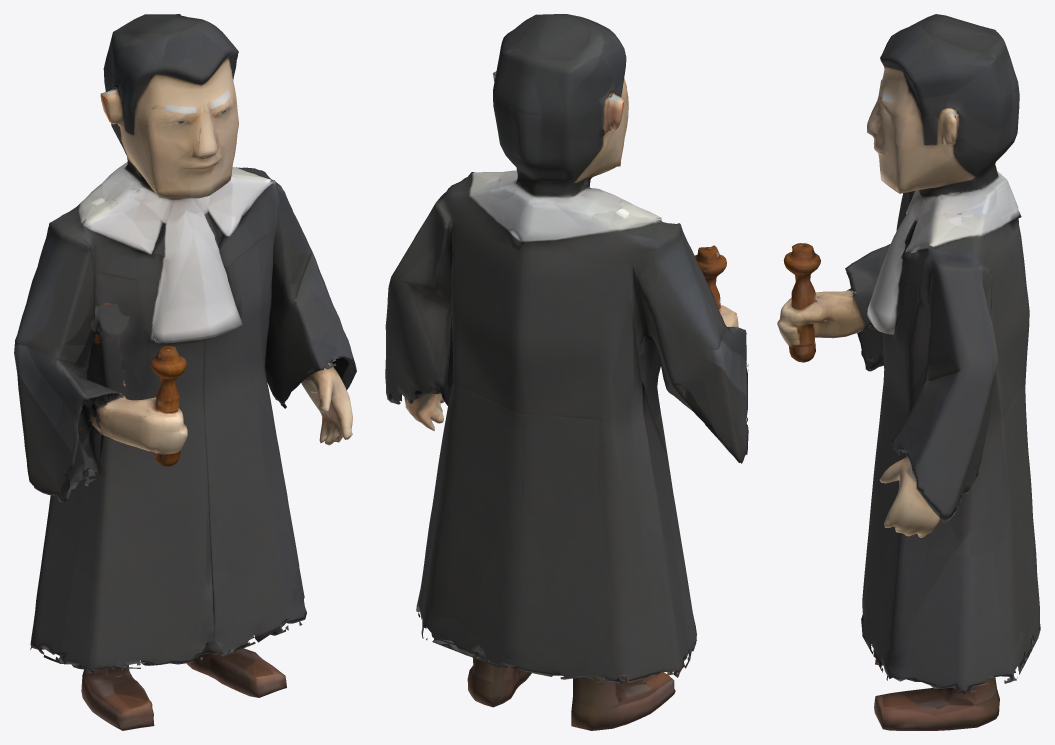
The model's file is low_poly_a_judge__0505121600_texture.fbx.
3 views of the same model, side by side, from view 1: azimuth 30°, elevation 25°; view 2: azimuth 150°, elevation 25°; view 3: azimuth 270°, elevation 25° (orthographic).
Visible parts, largest first — view 1: Mesh1; view 2: Mesh1; view 3: Mesh1.
Boxes of the visible parts, x1,y1,x2,y2 form: Mesh1: (14, 14, 356, 730); Mesh1: (385, 14, 748, 730); Mesh1: (777, 14, 1040, 730).
Size of the model in its own units: 103 by 199 by 71.22.
1 material, 1 textured.
